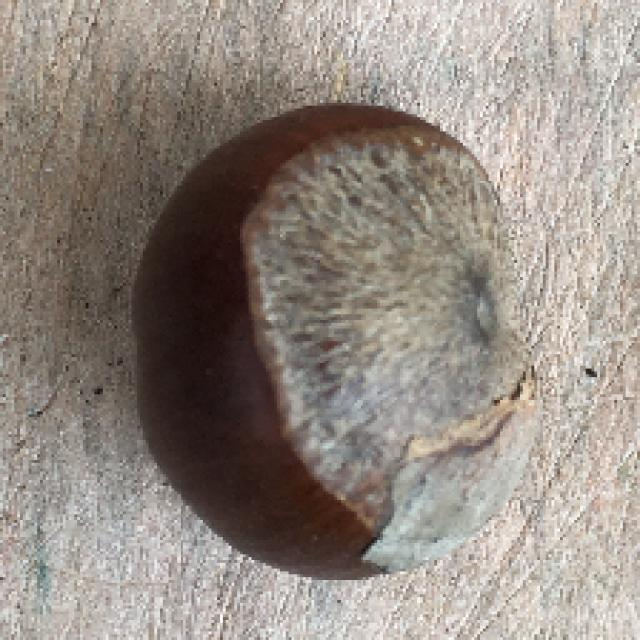damagedHazelnut: (127, 97, 538, 587)
